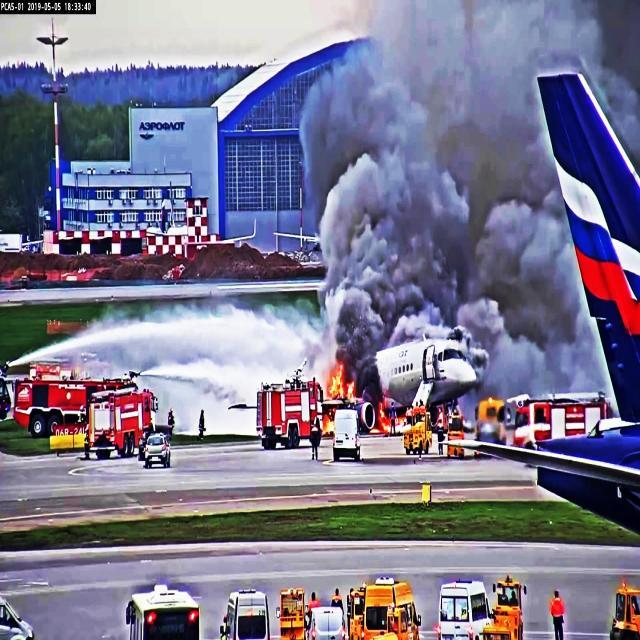Smoke: (328, 79, 464, 339)
